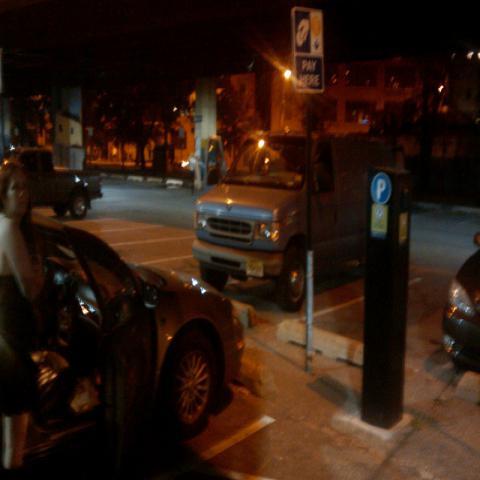car: (26, 211, 248, 473), (437, 244, 479, 374)
truck: (191, 133, 368, 317), (17, 146, 104, 219)
